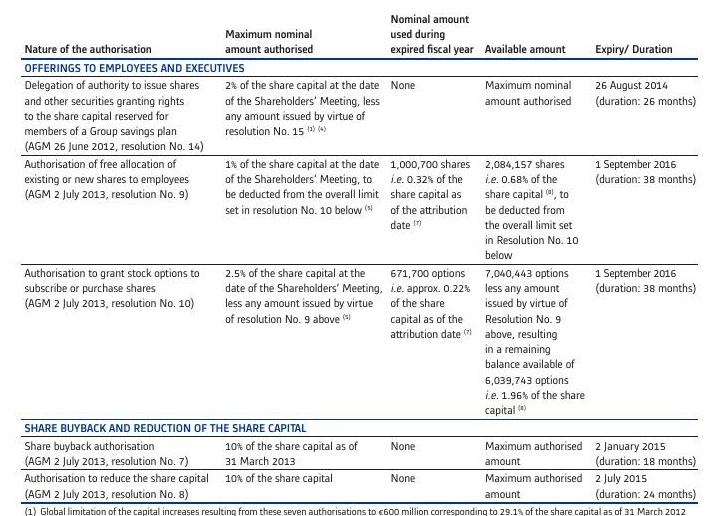table: (0, 0, 724, 516)
